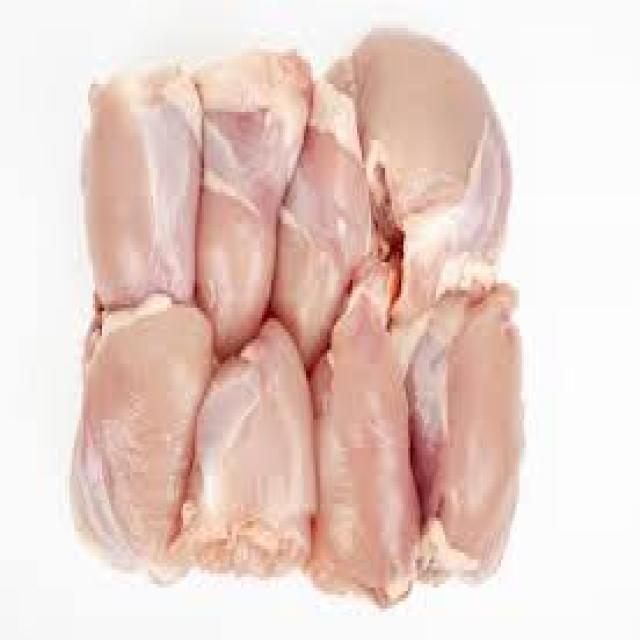thigh: (356, 36, 516, 294), (412, 303, 541, 616), (62, 307, 186, 602), (252, 70, 380, 328), (186, 62, 312, 324), (176, 338, 311, 581), (320, 314, 414, 615), (86, 60, 198, 304)
